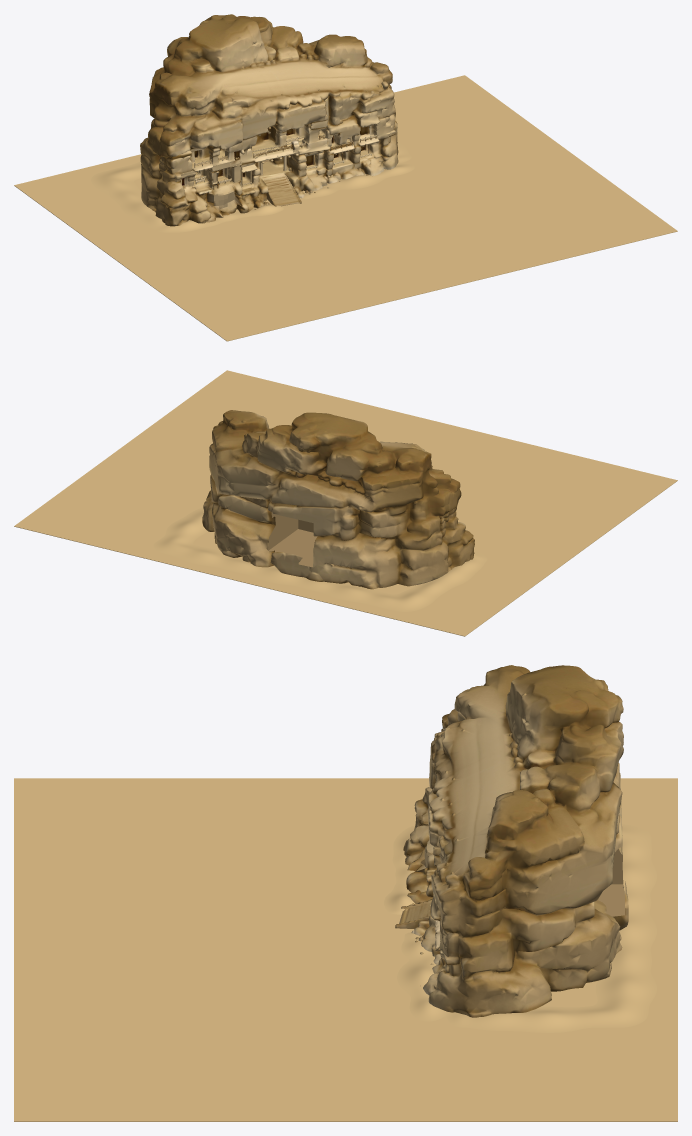
File: exterior.glb
3 views of the same model, one above another, from view 1: azimuth 30°, elevation 25°; view 2: azimuth 150°, elevation 25°; view 3: azimuth 270°, elevation 25° (orthographic). The views are drawn at different scales.
Visible parts, largest first — view 1: export-regional-sand-base.001, export-user-cliff-facade, export-sandstone-large-rock-v005; view 2: export-regional-sand-base.001, export-user-cliff-facade; view 3: export-regional-sand-base.001, export-user-cliff-facade.
Boxes of the visible parts, <box> form: export-regional-sand-base.001: <box>14,75,677,341</box>; export-user-cliff-facade: <box>140,14,398,226</box>; export-sandstone-large-rock-v005: <box>205,157,242,211</box>; export-regional-sand-base.001: <box>14,370,677,636</box>; export-user-cliff-facade: <box>202,410,474,589</box>; export-regional-sand-base.001: <box>14,778,677,1121</box>; export-user-cliff-facade: <box>395,665,628,1017</box>.
Bounding box in the file's own units: 220 × 68.23 × 180.
Materials: 3 (1 with a texture image).
